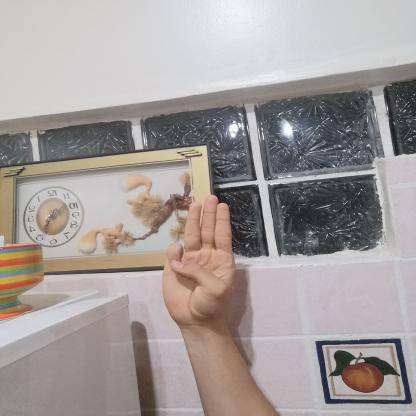THA: (149, 188, 249, 336)
